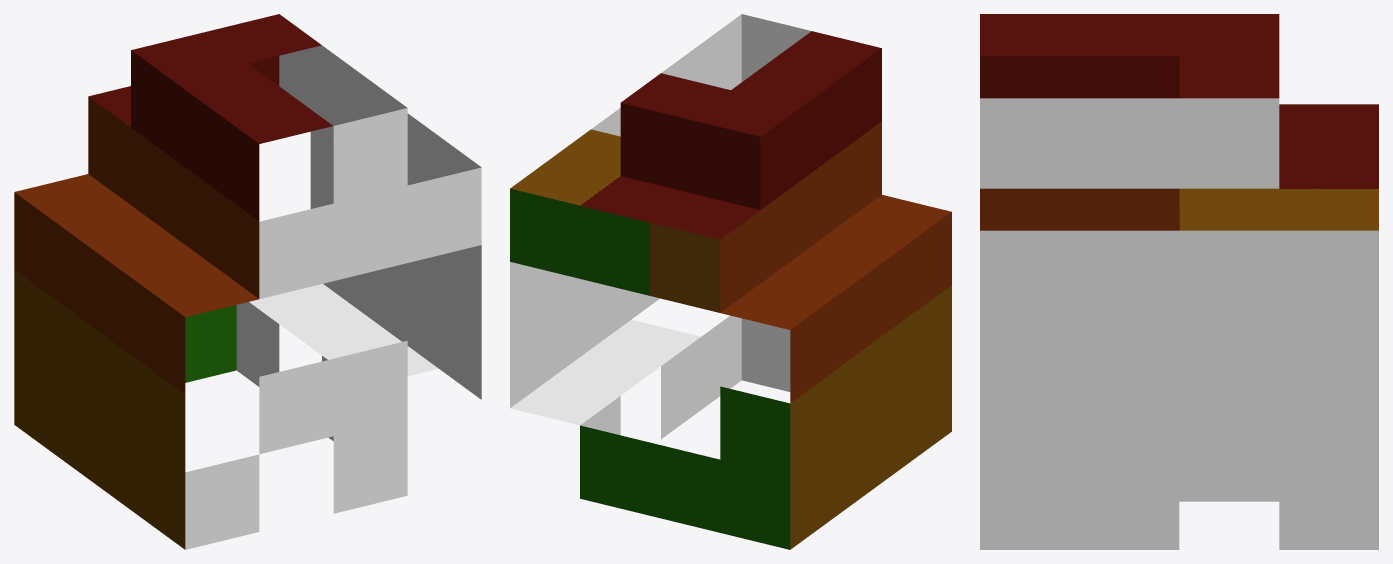
Rendered from block_36.fbx.
The picture shows the model from 3 angles, left to right: view 1: azimuth 30°, elevation 25°; view 2: azimuth 150°, elevation 25°; view 3: azimuth 270°, elevation 25°; orthographic projection. The views are drawn at different scales.
Visible parts, largest first — view 1: Box; view 2: Box; view 3: Box.
Part boxes in pixels (x1=…): Box: x1=14, y1=14, x2=481, y2=549; Box: x1=510, y1=14, x2=951, y2=549; Box: x1=980, y1=14, x2=1378, y2=549.
Bounding box in the file's own units: 4 × 4 × 5.
1 material, 1 textured.
